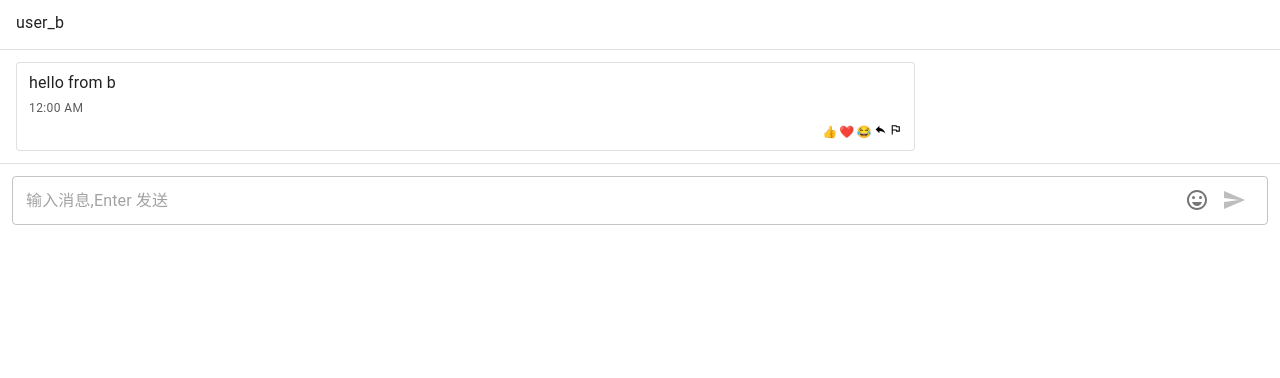
Scenario: ChatWindow › replies to a message: the send carries the quoted id and the strip clears
Click the button with test id "reply-m1" at x=880, y=132, box [874,123,886,142]
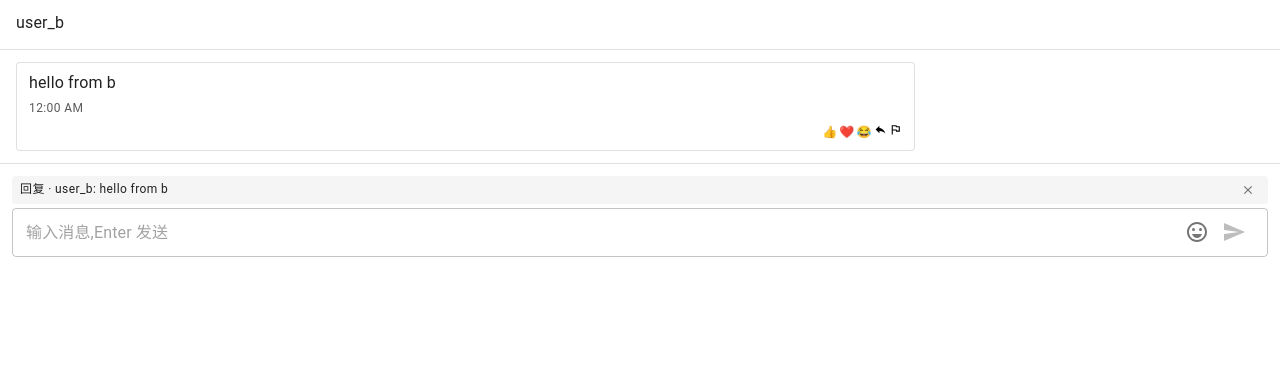
expect the element with test id "reply-preview" shows "user_b": met, box [55,182,93,196]
expect the element with test id "reply-preview" shows "hello from b": met, box [100,182,168,196]
Type "a reply" into the text box with placeholder "输入消息,Enter 发送" at x=599, y=232, box [26,220,1172,244]
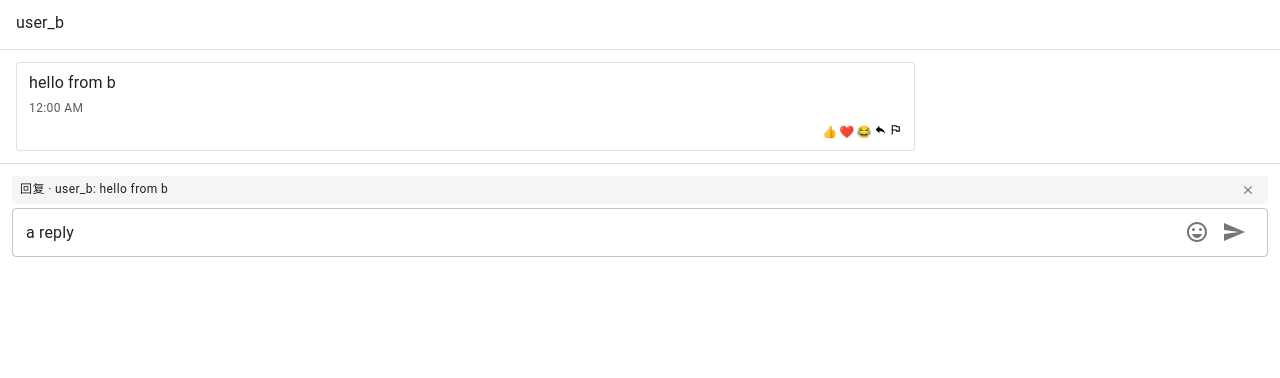
Press Enter in the text box, box [26,220,1172,244]
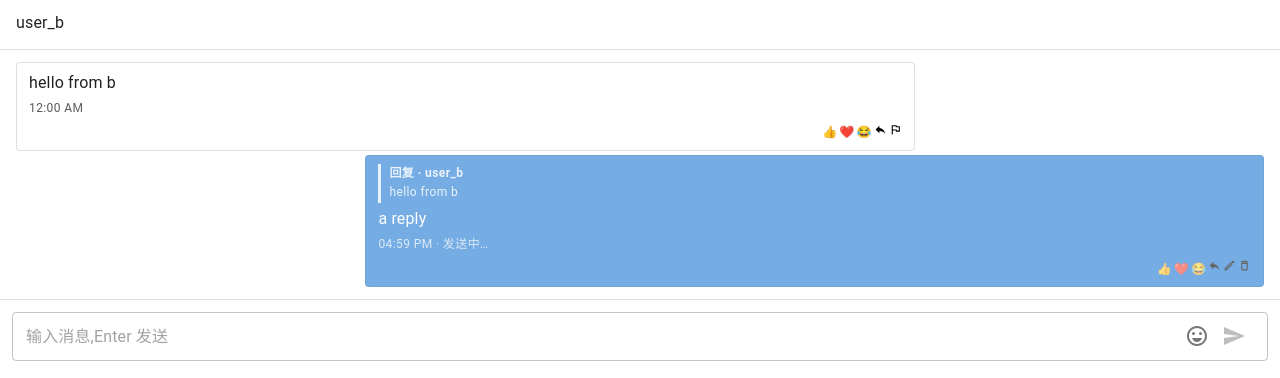
expect the element with test id "reply-preview" is gone: met
